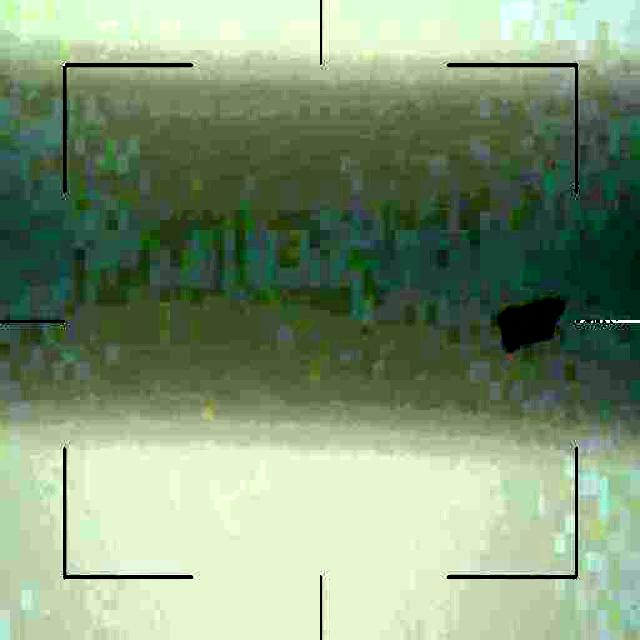bird: (502, 294, 559, 344)
